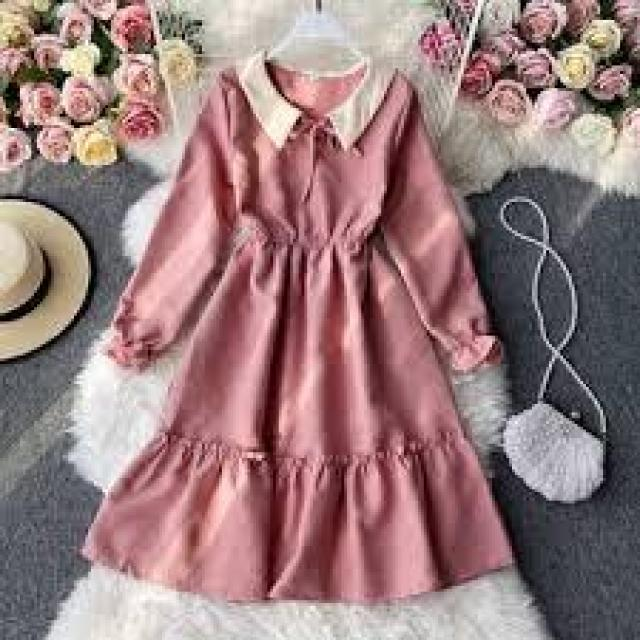dress: (90, 46, 508, 603)
